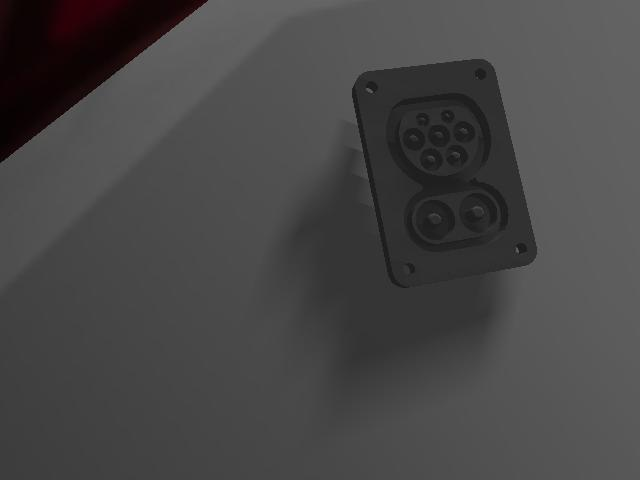EV-socket: (353, 59, 534, 287)
